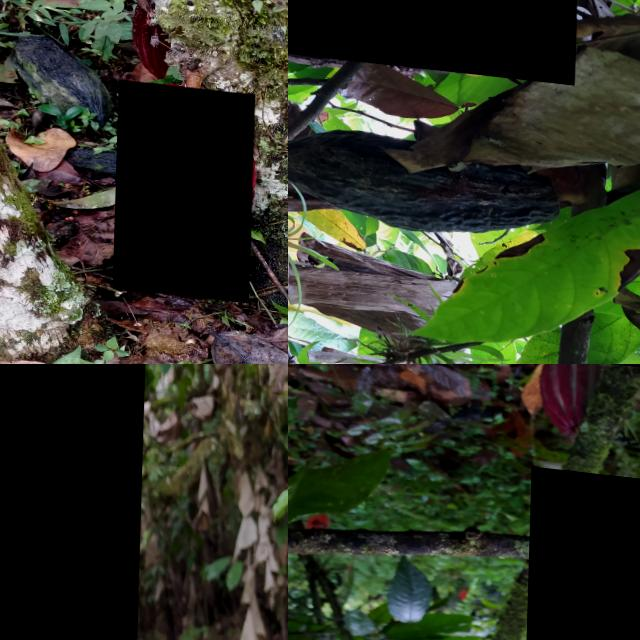Fitoftora: (0, 364, 148, 640), (288, 115, 566, 236), (116, 74, 256, 294), (288, 0, 578, 73)
Monilia: (524, 459, 640, 640)
